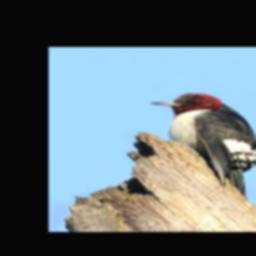Woodpecker: (149, 93, 256, 196)
